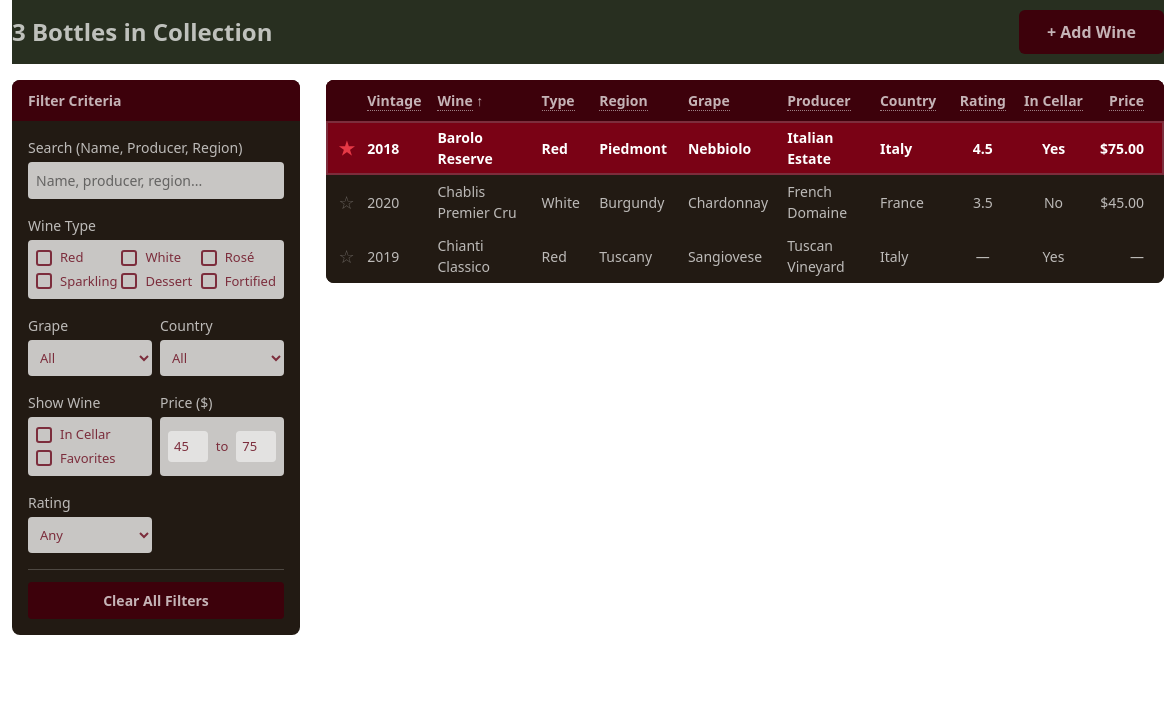
Test: Home Page - Additional Coverage › Filter Functionality › filters by country
The image size is (1176, 720).
Expected: the text "Barolo Reserve" is shown, [429,121,534,175]
// Find country select by its id
Select "France" in the dropdown with id "country" at (222, 358), box [160,340,284,376]
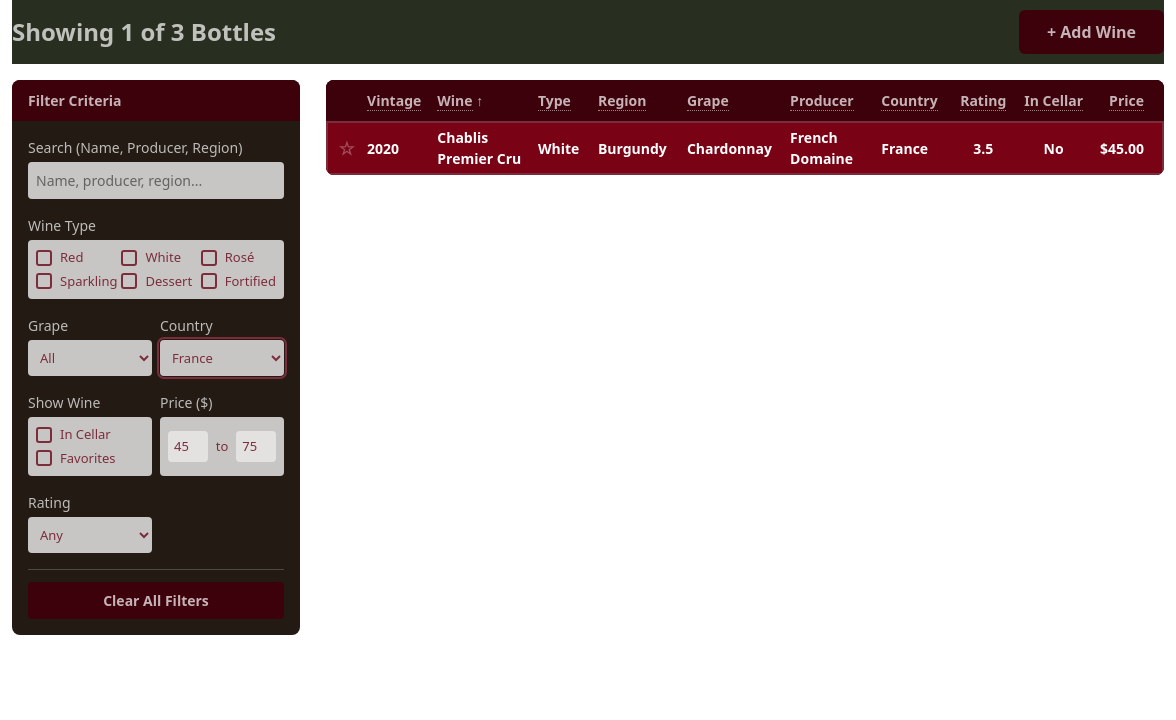
Expected: the text "Chablis Premier Cru" is shown, [429,121,530,175]
Result: the text "Barolo Reserve" is gone
Result: the text "Chianti Classico" is gone
